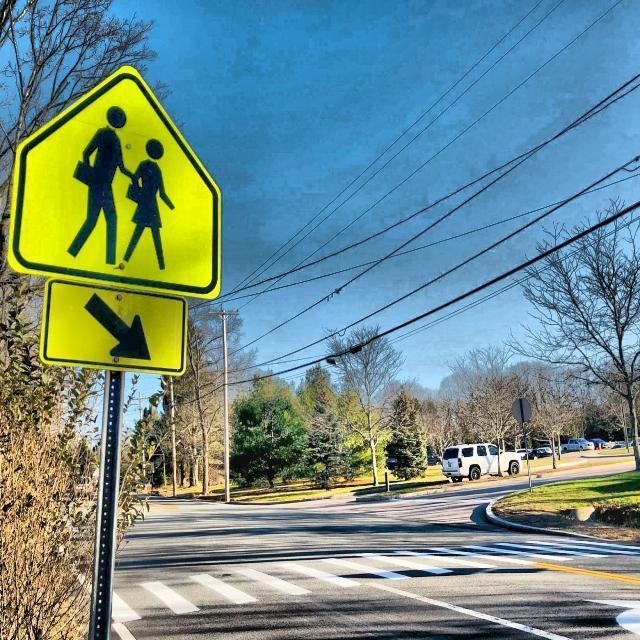crosswalk: (113, 536, 637, 623)
